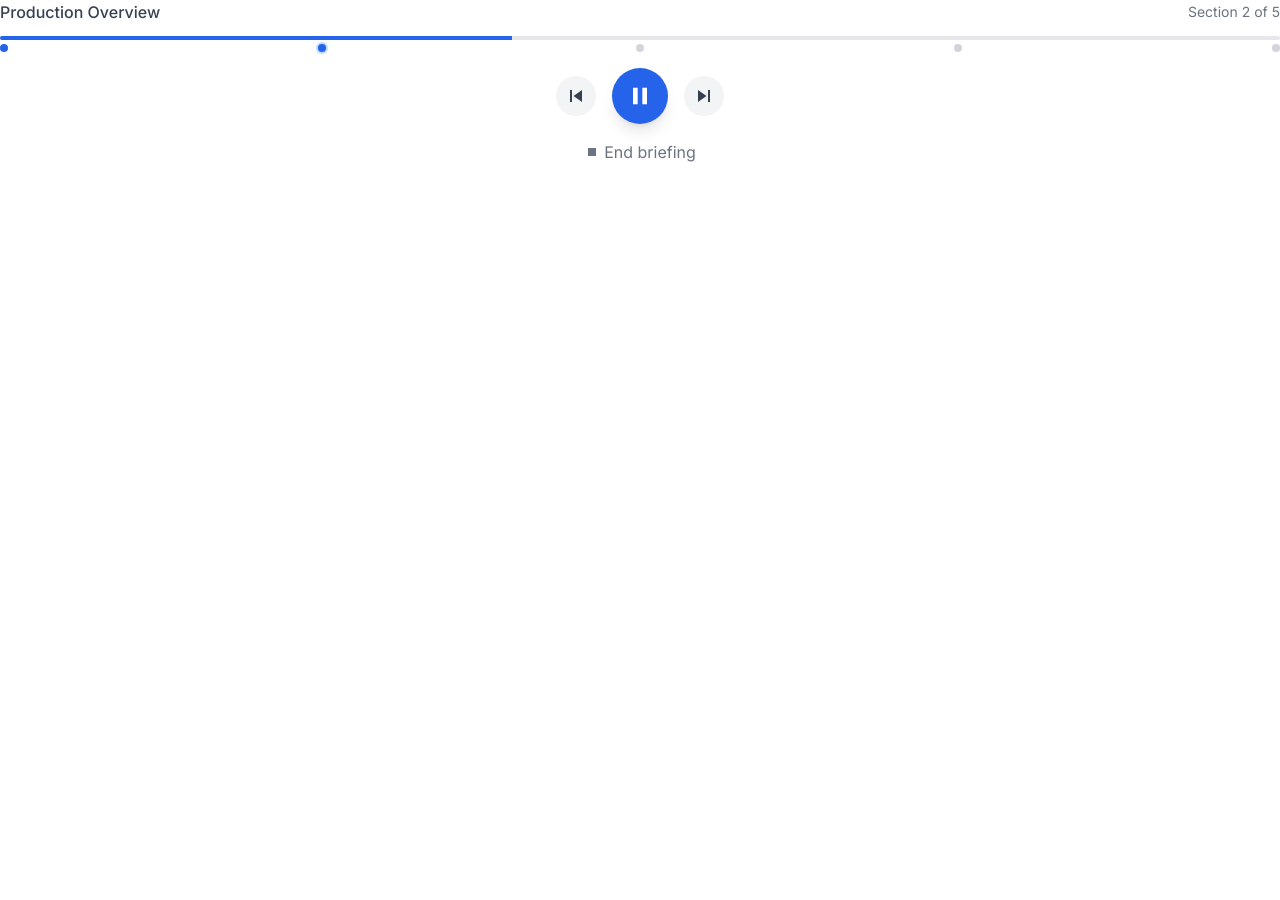
Test: VoiceControls › End Briefing button (AC#4) › shows confirmation dialog when end briefing clicked
Click the button labelled "End briefing".
click(640, 152)  # box [584,140,696,164]
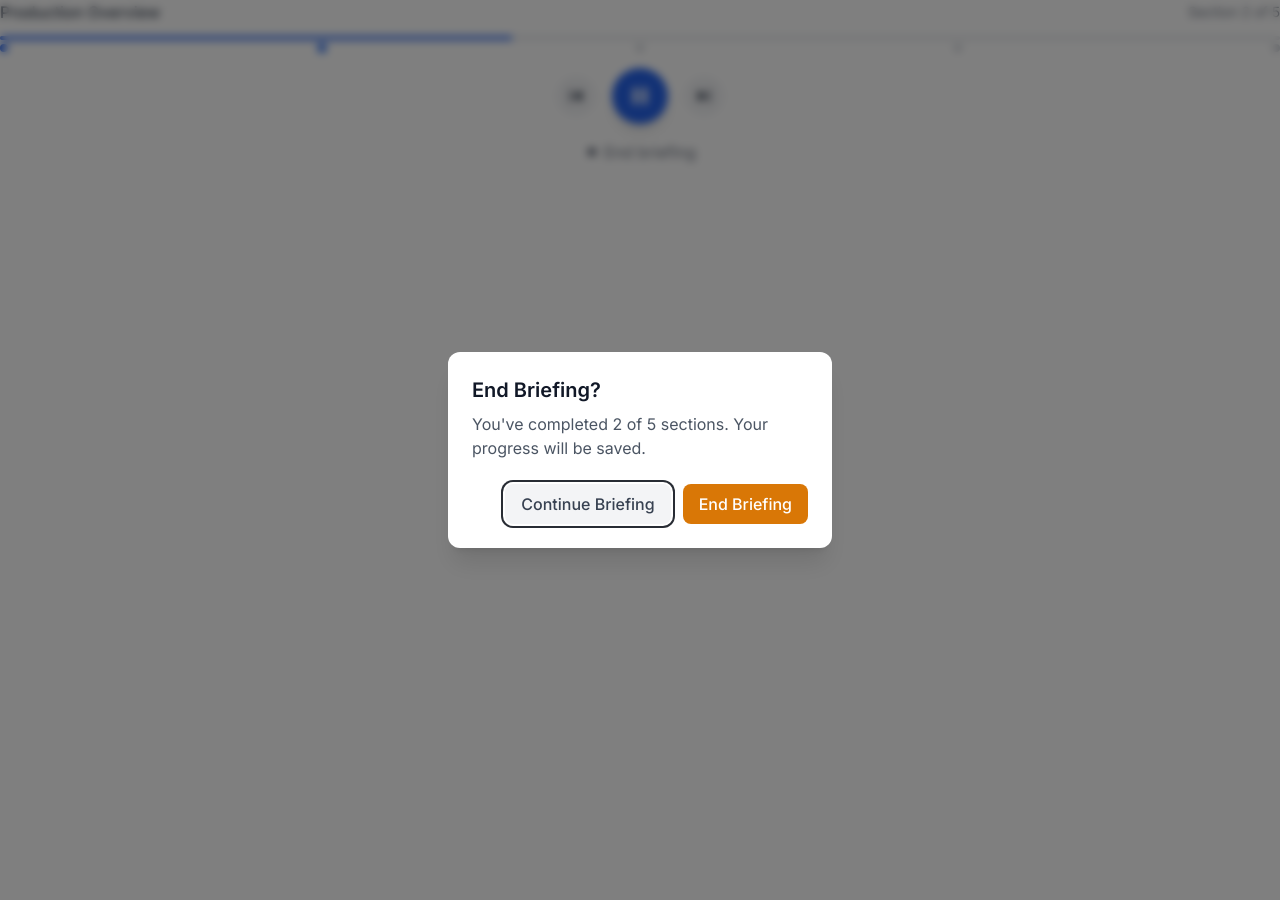
Expected: the heading "End Briefing?" is shown, [472,378,601,402]
Expected: the text "You've completed 2 of 5 sections" is shown, [472,412,808,460]
